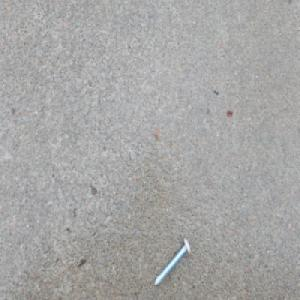Nail: (153, 236, 191, 288)
